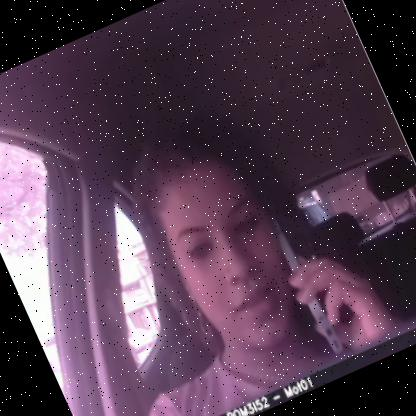phone: (262, 198, 360, 358)
